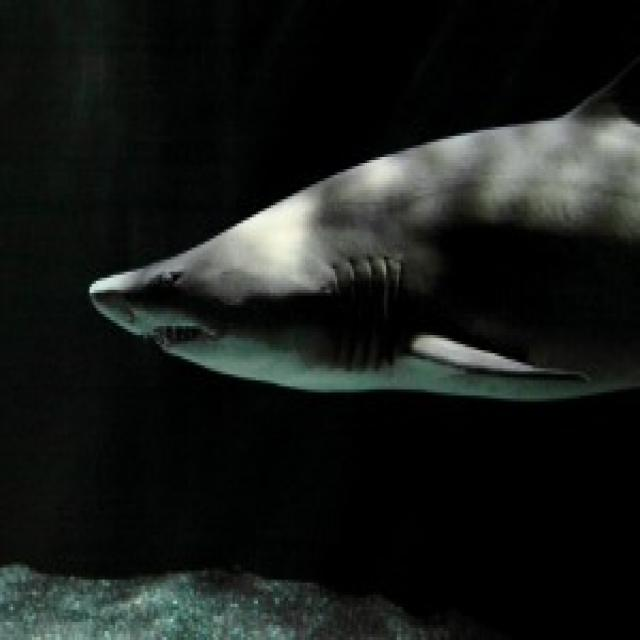Shark: (79, 79, 639, 408)
